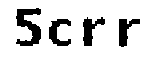5: (10, 3, 45, 50)
c: (48, 16, 77, 49)
r: (114, 15, 148, 50), (81, 15, 108, 49)
